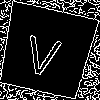V: (21, 25, 65, 78)
